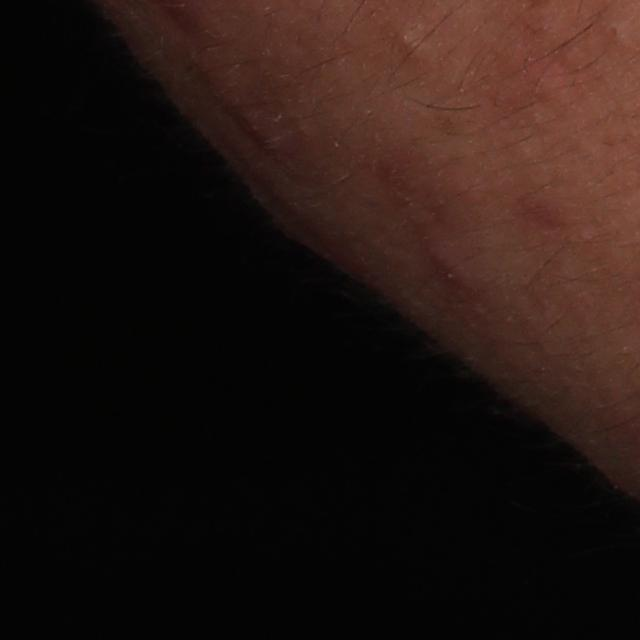comedo: (392, 19, 426, 60), (603, 18, 627, 40)
papule: (427, 244, 479, 290)
